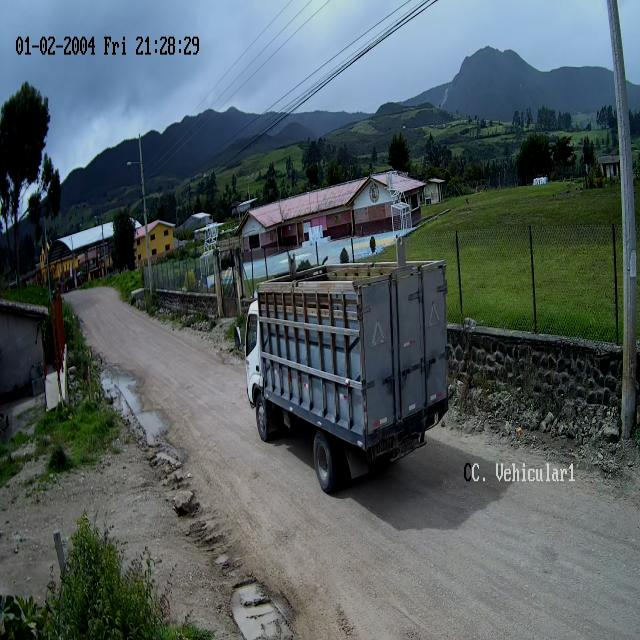TRUCK: (243, 258, 450, 494)
